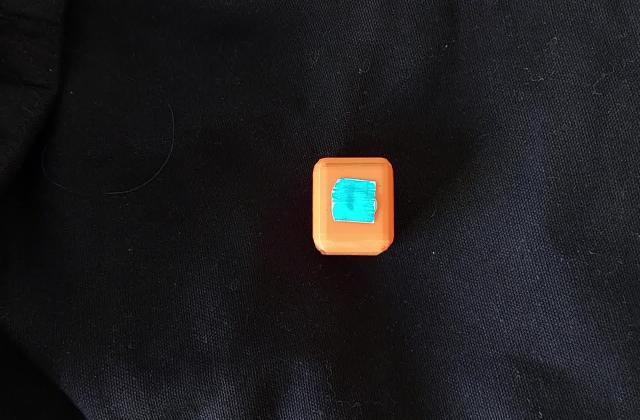blue: (337, 188, 372, 217)
sticker: (308, 152, 398, 260)
